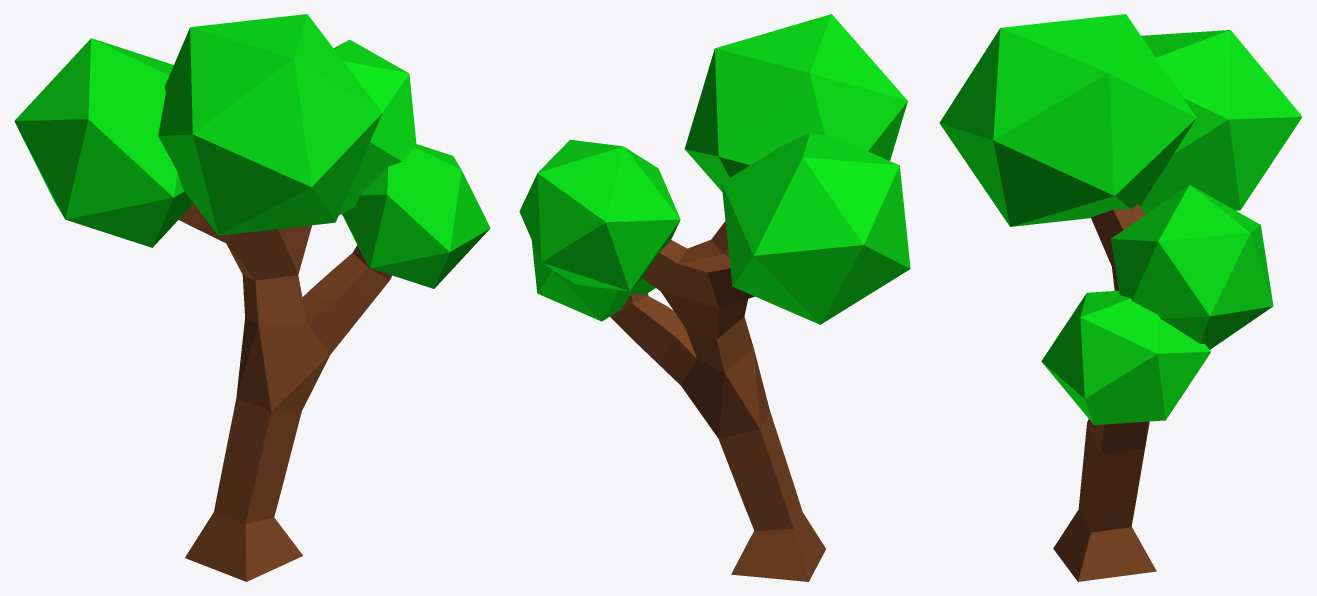
The model's file is tree3.fbx.
The picture shows the model from 3 angles, left to right: view 1: azimuth 30°, elevation 25°; view 2: azimuth 150°, elevation 25°; view 3: azimuth 270°, elevation 25°; orthographic projection. The views are drawn at different scales.
Visible parts, largest first — view 1: Icosphere.008, Icosphere.009, Tree3, Icosphere.010, Tree3.001, Icosphere.007; view 2: Icosphere.009, Icosphere.008, Tree3, Icosphere.007, Tree3.001, Icosphere.010; view 3: Icosphere.008, Icosphere.007, Icosphere.009, Icosphere.010, Tree3, Tree3.001.
Boxes of the visible parts, <box> form: Icosphere.008: <box>158,14,382,235</box>; Icosphere.009: <box>14,38,193,247</box>; Tree3: <box>179,203,391,486</box>; Icosphere.010: <box>342,144,490,288</box>; Tree3.001: <box>185,474,302,581</box>; Icosphere.007: <box>334,39,416,214</box>; Icosphere.009: <box>721,132,910,324</box>; Icosphere.008: <box>684,14,907,191</box>; Tree3: <box>610,221,791,504</box>; Icosphere.007: <box>519,139,680,291</box>; Tree3.001: <box>731,479,825,581</box>; Icosphere.010: <box>531,240,655,321</box>; Icosphere.008: <box>939,14,1196,226</box>; Icosphere.007: <box>1111,185,1273,349</box>; Icosphere.009: <box>1140,30,1302,214</box>; Icosphere.010: <box>1041,290,1210,424</box>; Tree3: <box>1081,204,1149,510</box>; Tree3.001: <box>1053,481,1156,581</box>.
Size of the model in its own units: 764 by 991 by 615.
